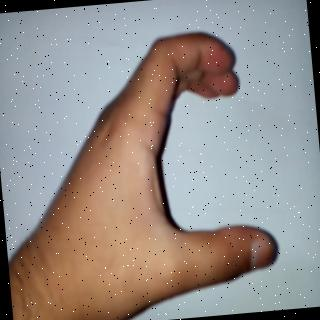C: (54, 25, 295, 312)
